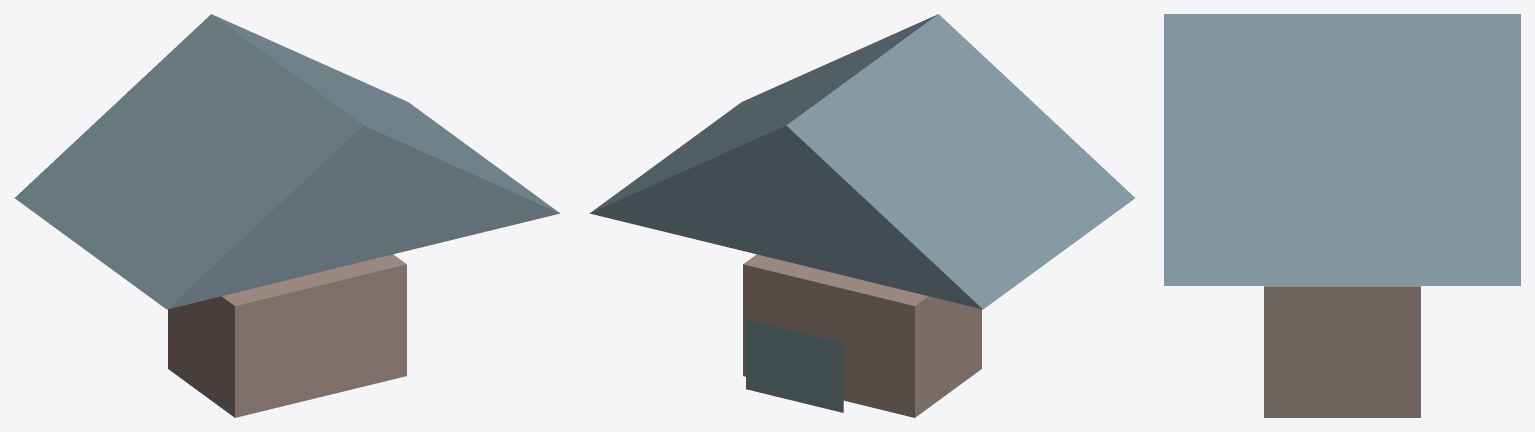
File: moonhill-wind-shelter-01.glb
The picture shows the model from 3 angles, left to right: view 1: azimuth 30°, elevation 25°; view 2: azimuth 150°, elevation 25°; view 3: azimuth 270°, elevation 25°; orthographic projection. The views are drawn at different scales.
Parts seen in each view (by area): view 1: ShelterRoof, ShelterBody; view 2: ShelterRoof, ShelterBody, OpenFront; view 3: ShelterRoof, ShelterBody.
Boxes of the visible parts, left/top/right/bottom form: ShelterRoof: left=15, top=14, right=560, bottom=309; ShelterBody: left=168, top=254, right=406, bottom=417; ShelterRoof: left=589, top=14, right=1134, bottom=309; ShelterBody: left=743, top=254, right=981, bottom=417; OpenFront: left=746, top=319, right=843, bottom=412; ShelterRoof: left=1164, top=14, right=1520, bottom=285; ShelterBody: left=1264, top=286, right=1420, bottom=417.
Size of the model in its own units: 2.12 by 1.56 by 1.42.
